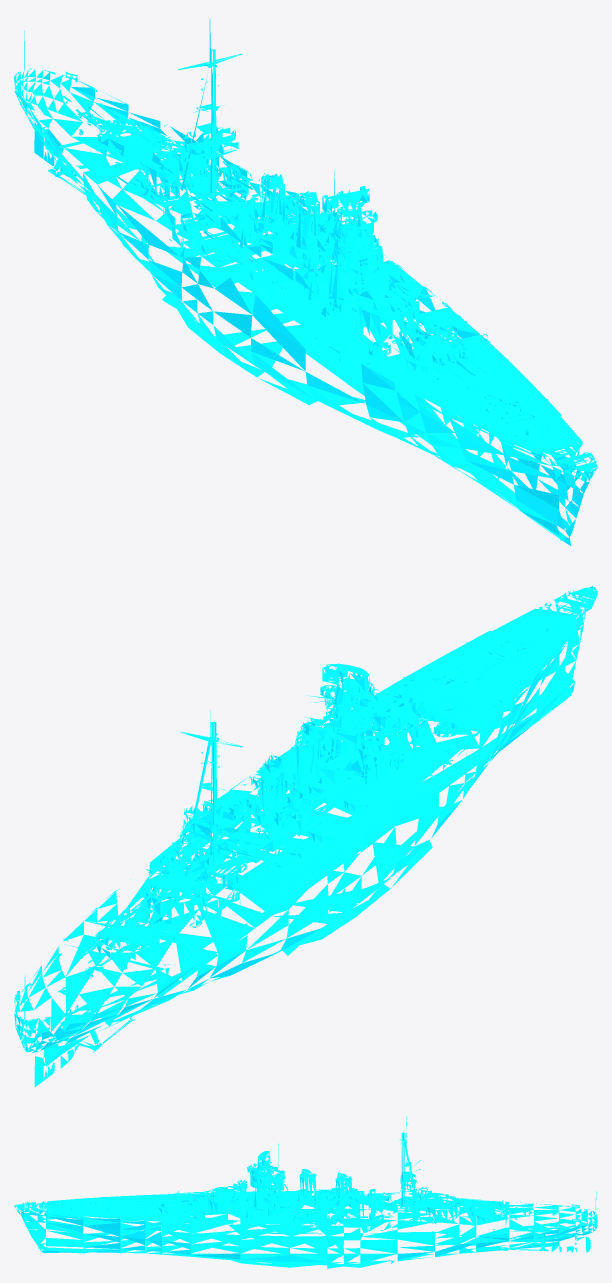
File: Novorossiysk.glb
3 views of the same model, one above another, from view 1: azimuth 30°, elevation 25°; view 2: azimuth 150°, elevation 25°; view 3: azimuth 270°, elevation 25° (orthographic). The views are drawn at different scales.
Bounding box in the file's own units: 1.87 × 3.23 × 12.42.
